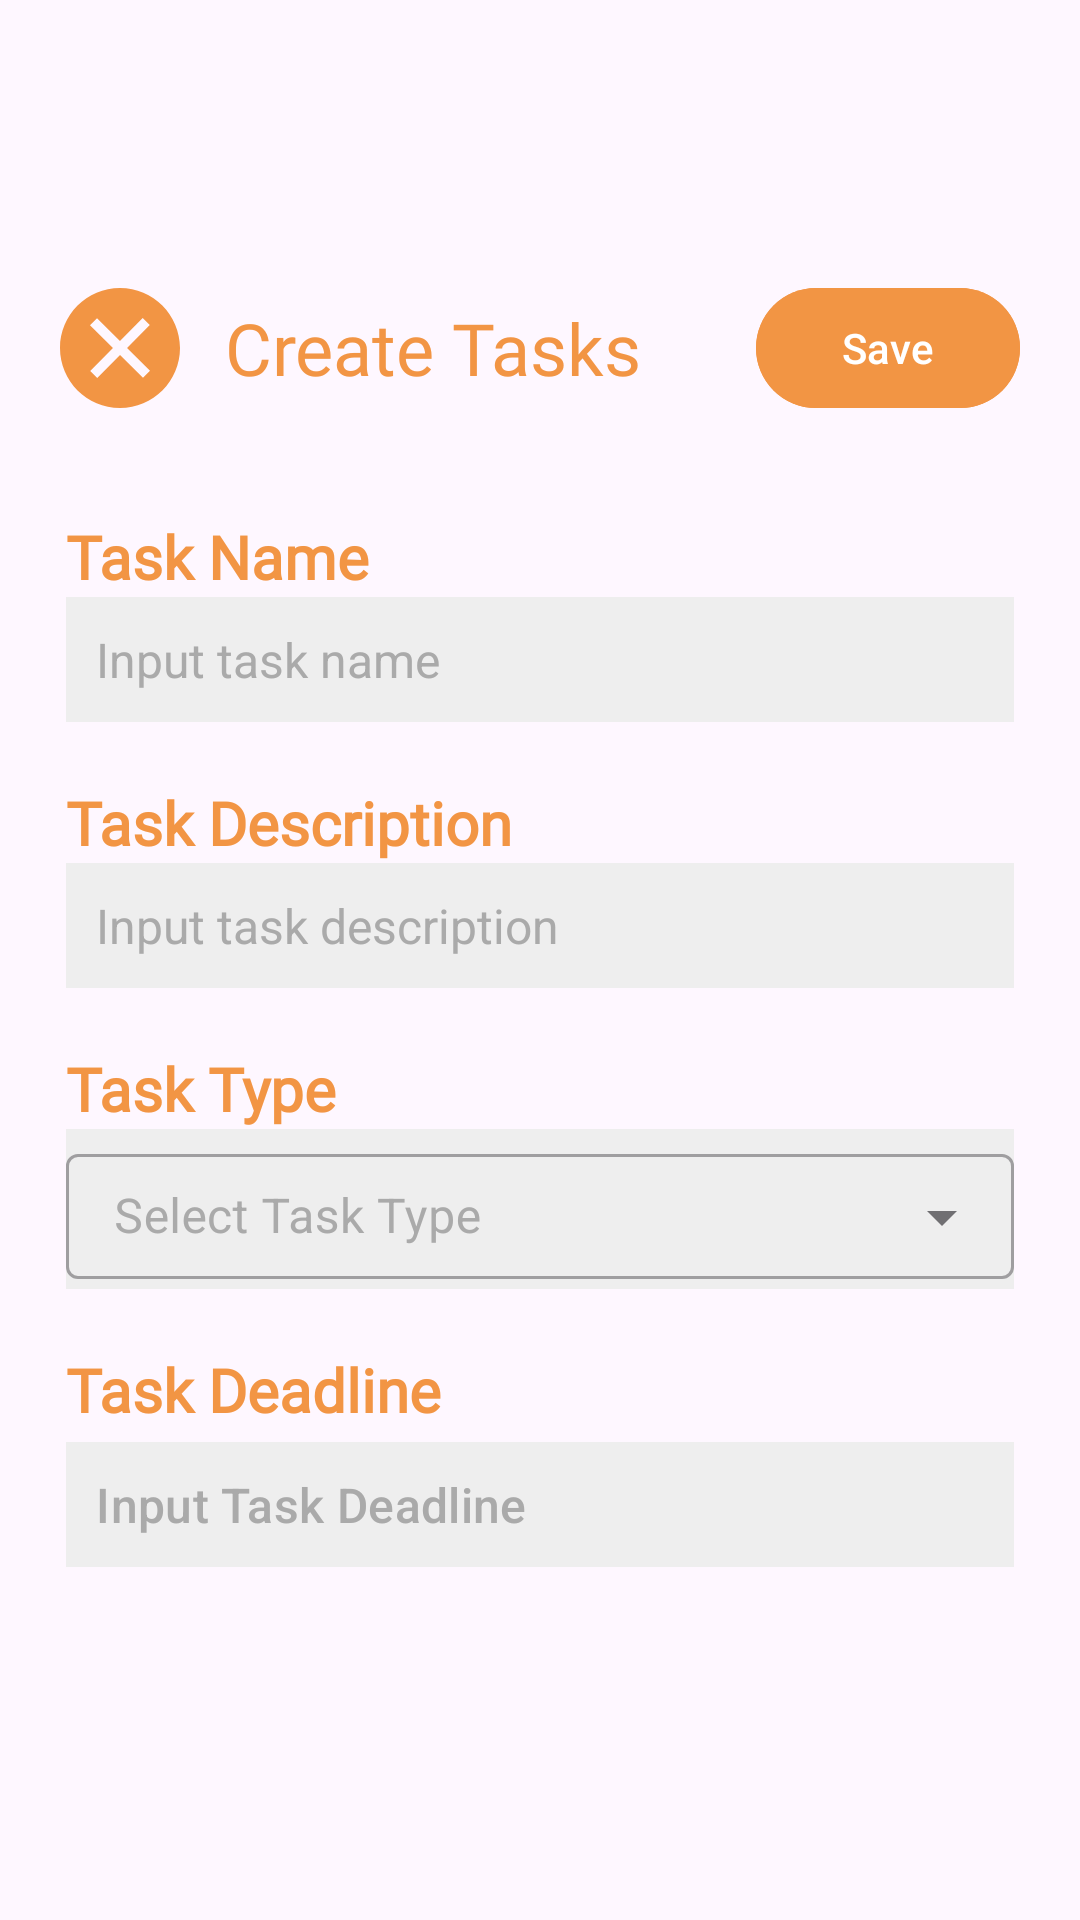

Icons on this 1080×1920 Android screen, each with its box as (x1, y1, x2, y2):
Exit creating a task: (60, 288, 180, 408)
